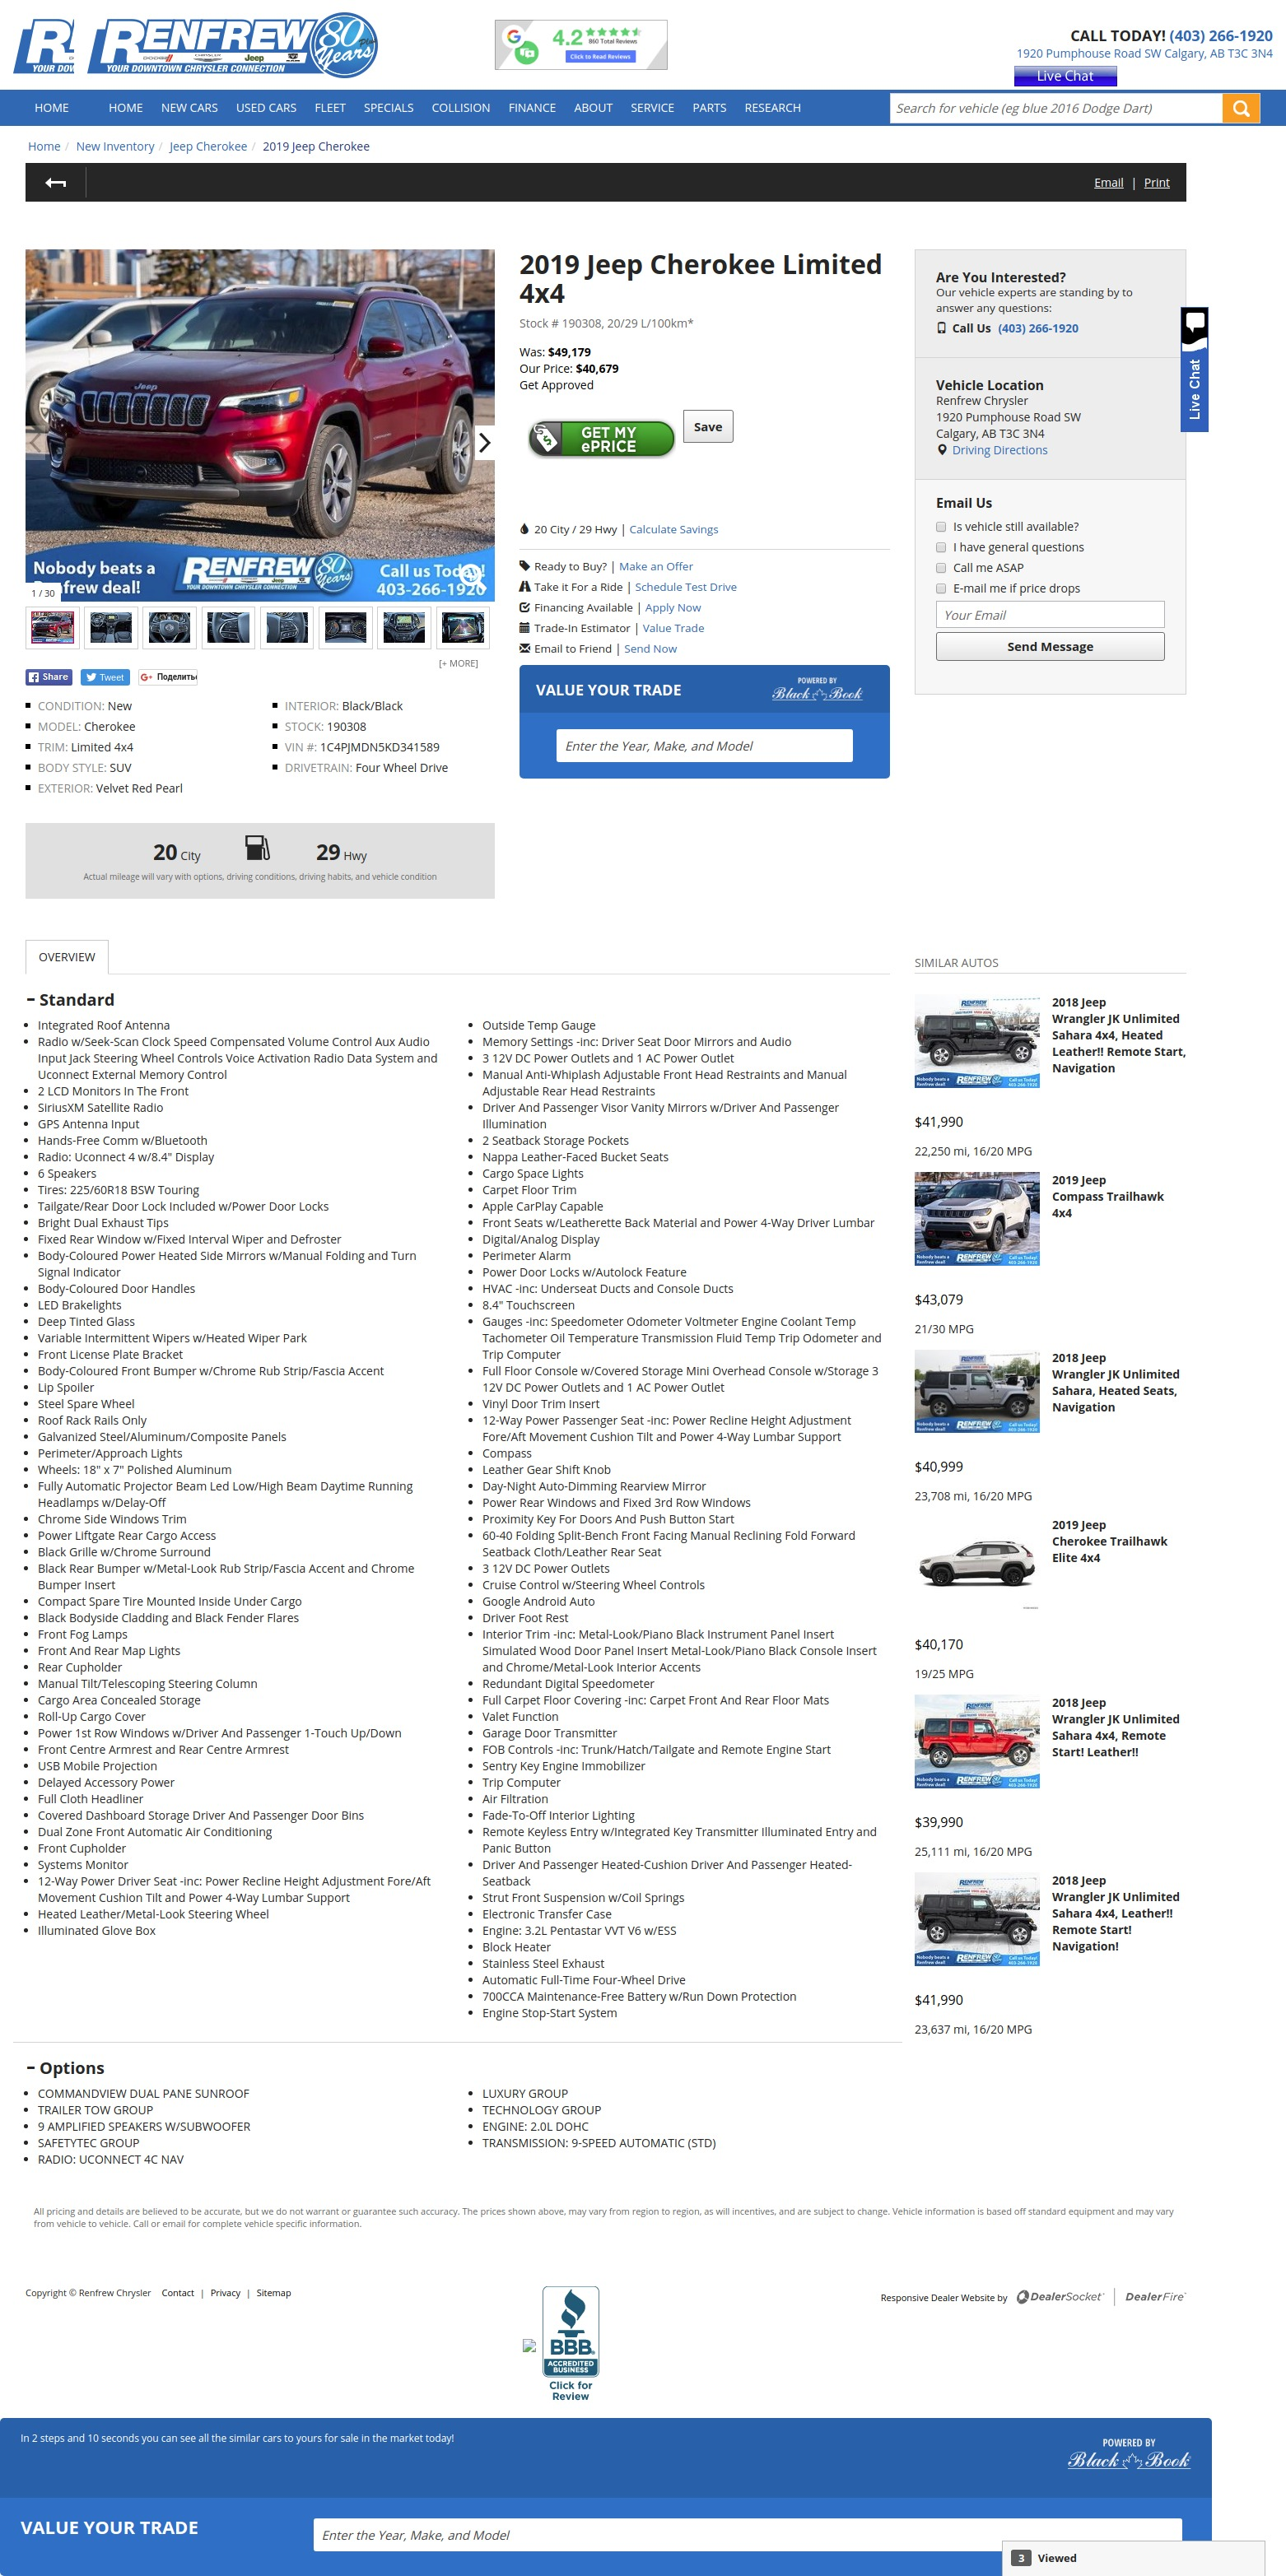car: (479, 434, 492, 455)
